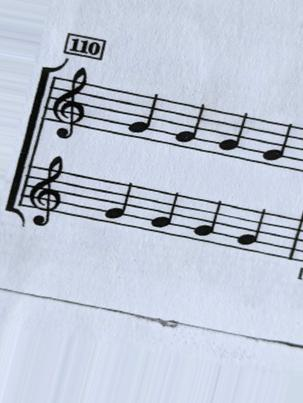G: (120, 85, 161, 143), (257, 113, 296, 172), (187, 191, 226, 250), (171, 93, 208, 152), (99, 177, 137, 232), (146, 183, 182, 237), (217, 105, 249, 161), (233, 202, 266, 252)
